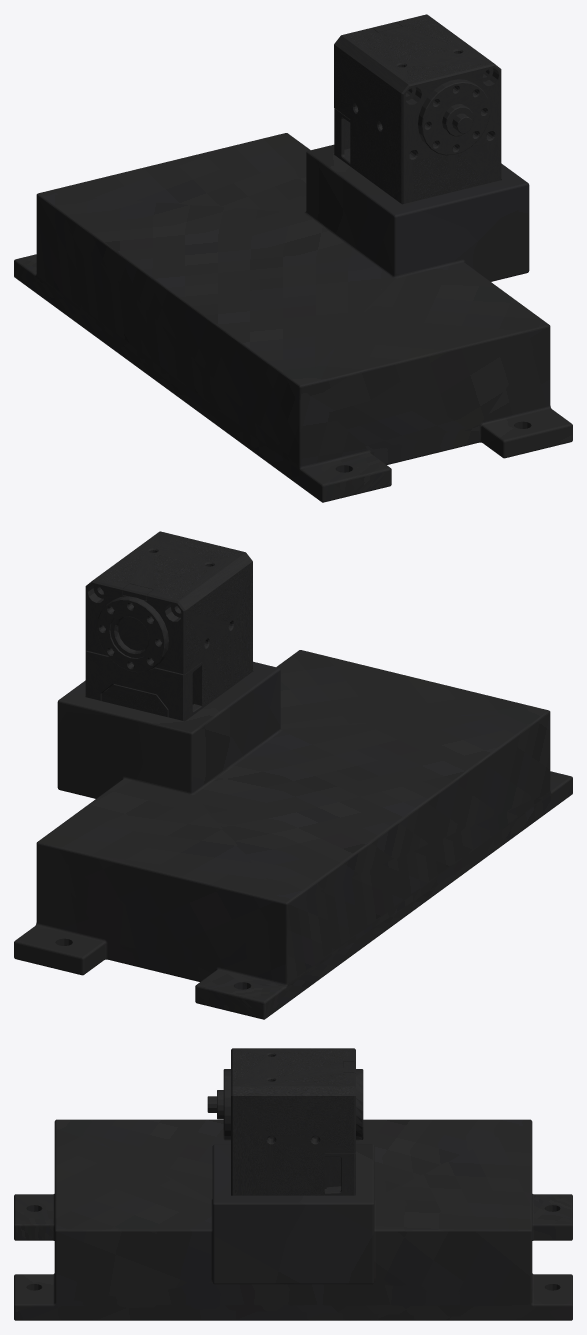
3 renders of one model, top to bottom at view 1: azimuth 30°, elevation 25°; view 2: azimuth 150°, elevation 25°; view 3: azimuth 270°, elevation 25°, orthographic. The views are drawn at different scales.
Parts seen in each view (by area): view 1: node; view 2: node; view 3: node.
Part boxes in pixels (x1=…): node: x1=14, y1=14, x2=572, y2=502; node: x1=14, y1=531, x2=572, y2=1019; node: x1=14, y1=1048, x2=572, y2=1320.
Size of the model in its own units: 0.0904 by 0.1524 by 0.0762.
Materials: 1 (1 with a texture image).
